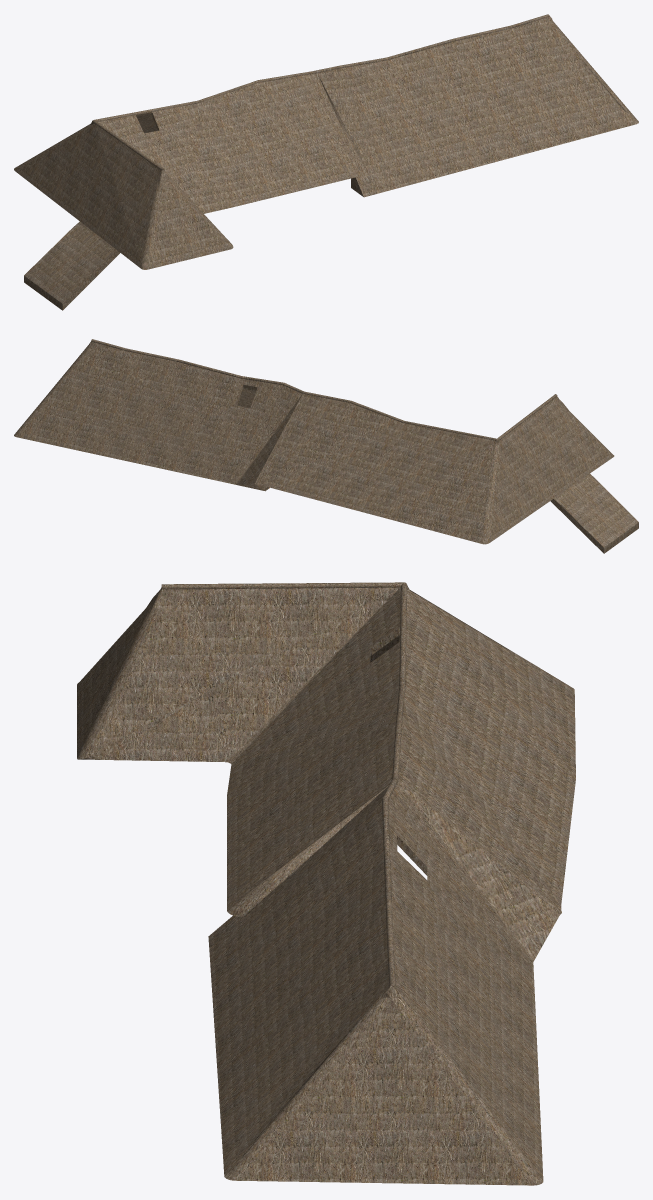
Rendered from krytiny.dae.
3 renders of one model, top to bottom at view 1: azimuth 30°, elevation 25°; view 2: azimuth 150°, elevation 25°; view 3: azimuth 270°, elevation 25°, orthographic. The views are drawn at different scales.
Visible parts, largest first — view 1: group_0 (×3), group_2, group_1; view 2: group_0 (×3), group_2, group_1; view 3: group_0 (×4), group_2.
Part boxes in pixels (x1,y1,x2,y2): group_0 (×3): (15,16,638,310); group_2: (92,65,341,170); group_1: (341,38,456,67); group_0 (×3): (14,342,638,553); group_2: (283,382,557,441); group_1: (177,359,282,384); group_0 (×4): (77,587,575,1185); group_2: (161,582,407,799).
Size of the model in its own units: 1071 by 432 by 213.
4 materials, 3 textured.
